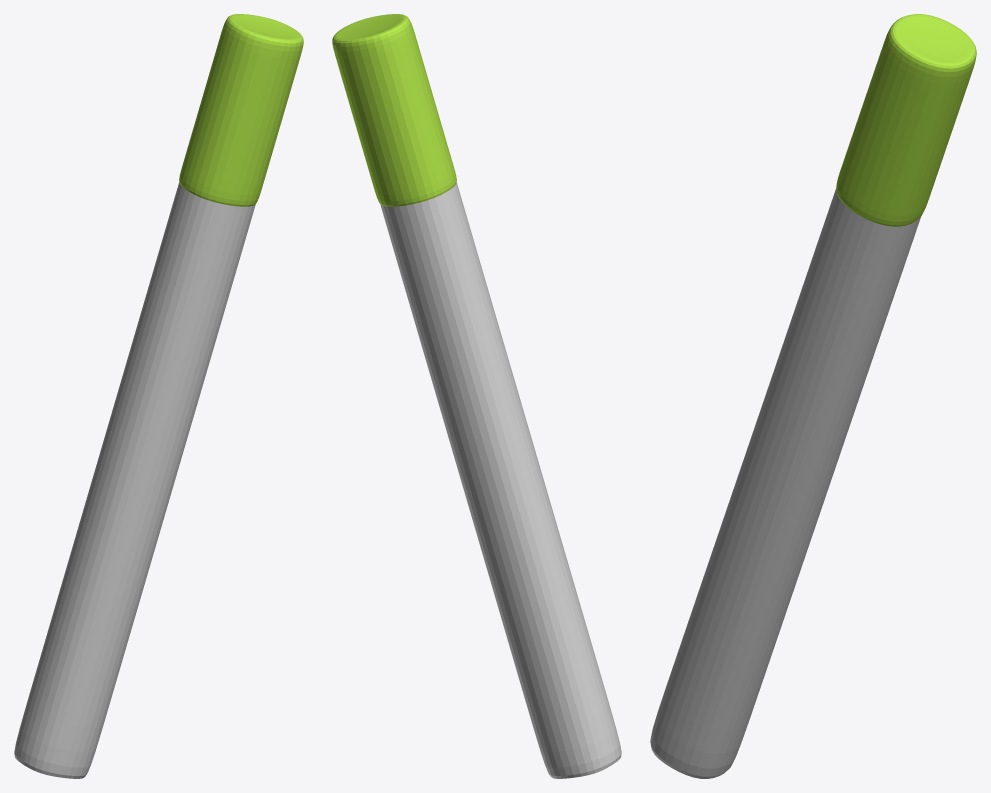
The model's file is cig.fbx.
The picture shows the model from 3 angles, left to right: view 1: azimuth 30°, elevation 25°; view 2: azimuth 150°, elevation 25°; view 3: azimuth 330°, elevation 25°; orthographic projection. The views are drawn at different scales.
Visible parts, largest first — view 1: Cube; view 2: Cube; view 3: Cube.
Part boxes in pixels (x1,y1,x2,y2): Cube: (14,14,303,778); Cube: (332,14,621,778); Cube: (650,14,976,778).
Bounding box in the file's own units: 120 × 291 × 29.25.
